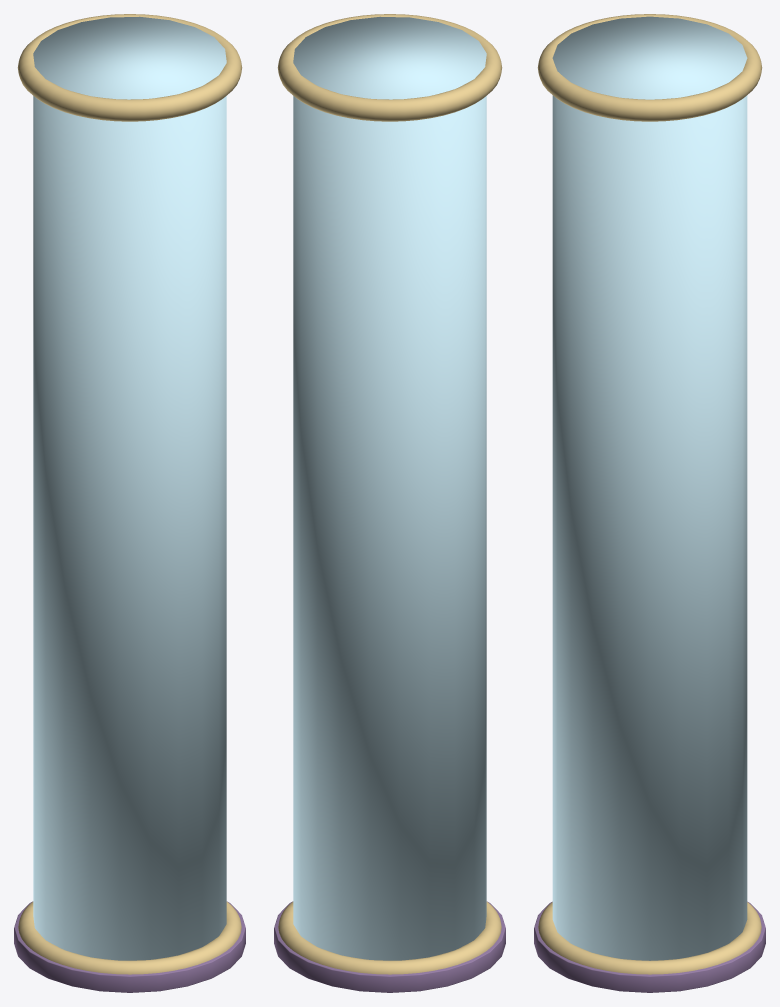
File: opera_lift.glb
3 views of the same model, side by side, from view 1: azimuth 30°, elevation 25°; view 2: azimuth 150°, elevation 25°; view 3: azimuth 270°, elevation 25° (orthographic).
Visible parts, largest first — view 1: glass_column, top_ring, pad, base_ring; view 2: glass_column, top_ring, pad, base_ring; view 3: glass_column, top_ring, pad, base_ring.
Boxes of the visible parts, x1,y1,x2,y2 form: glass_column: (33, 16, 226, 960); top_ring: (17, 14, 242, 121); pad: (14, 901, 245, 992); base_ring: (18, 901, 241, 974); glass_column: (293, 16, 486, 960); top_ring: (277, 14, 502, 121); pad: (274, 901, 505, 992); base_ring: (278, 901, 501, 974); glass_column: (552, 16, 747, 960); top_ring: (537, 14, 762, 121); pad: (534, 901, 765, 992); base_ring: (538, 902, 761, 974).
Bounding box in the file's own units: 6.2 × 26.15 × 6.2.
